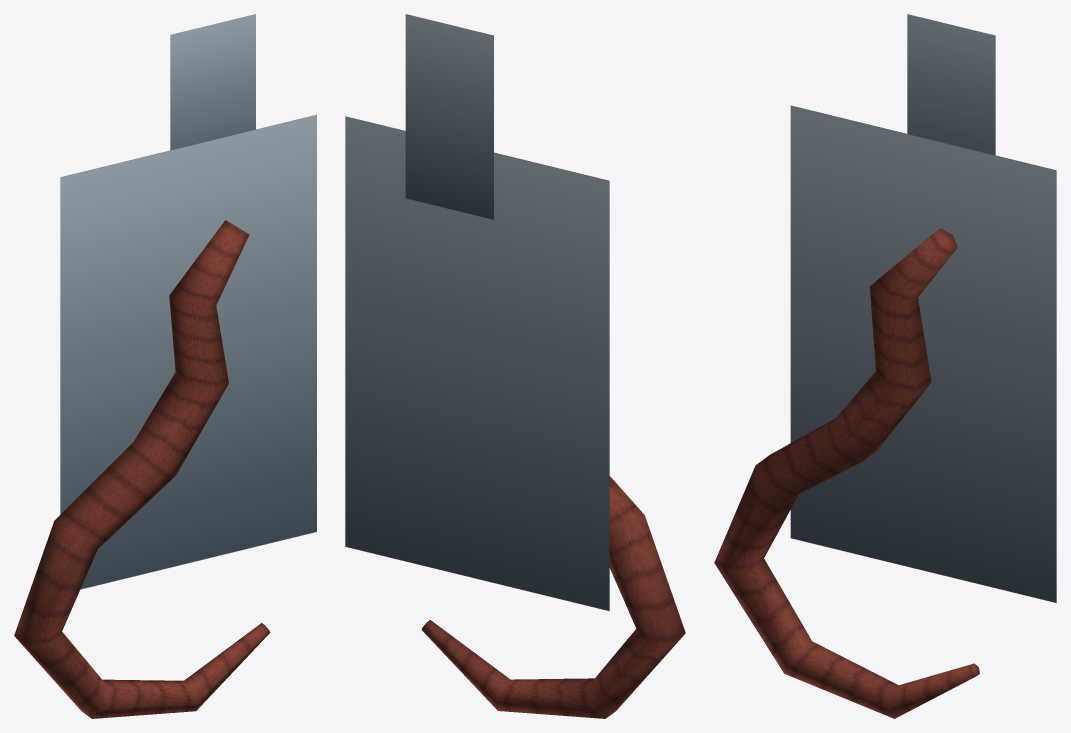
Rendered from worm.glb.
The picture shows the model from 3 angles, left to right: view 1: azimuth 30°, elevation 25°; view 2: azimuth 150°, elevation 25°; view 3: azimuth 330°, elevation 25°; orthographic projection. The views are drawn at different scales.
Visible parts, largest first — view 1: worm__Hook_ALPHA_only, worm__Worm_body_MESH, worm__Leader_swivel_ALPHA_only; view 2: worm__Hook_ALPHA_only, worm__Leader_swivel_ALPHA_only, worm__Worm_body_MESH; view 3: worm__Hook_ALPHA_only, worm__Worm_body_MESH, worm__Leader_swivel_ALPHA_only.
Part boxes in pixels (bbox=[...]): worm__Hook_ALPHA_only: bbox=[60, 114, 316, 589]; worm__Worm_body_MESH: bbox=[14, 220, 270, 718]; worm__Leader_swivel_ALPHA_only: bbox=[170, 14, 255, 150]; worm__Hook_ALPHA_only: bbox=[345, 116, 609, 611]; worm__Leader_swivel_ALPHA_only: bbox=[405, 14, 493, 219]; worm__Worm_body_MESH: bbox=[421, 476, 685, 718]; worm__Hook_ALPHA_only: bbox=[790, 105, 1056, 602]; worm__Worm_body_MESH: bbox=[714, 228, 979, 718]; worm__Leader_swivel_ALPHA_only: bbox=[907, 14, 995, 155].
Bounding box in the file's own units: 0.0327 × 0.0668 × 0.0057.
Materials: 2 (2 with a texture image).
